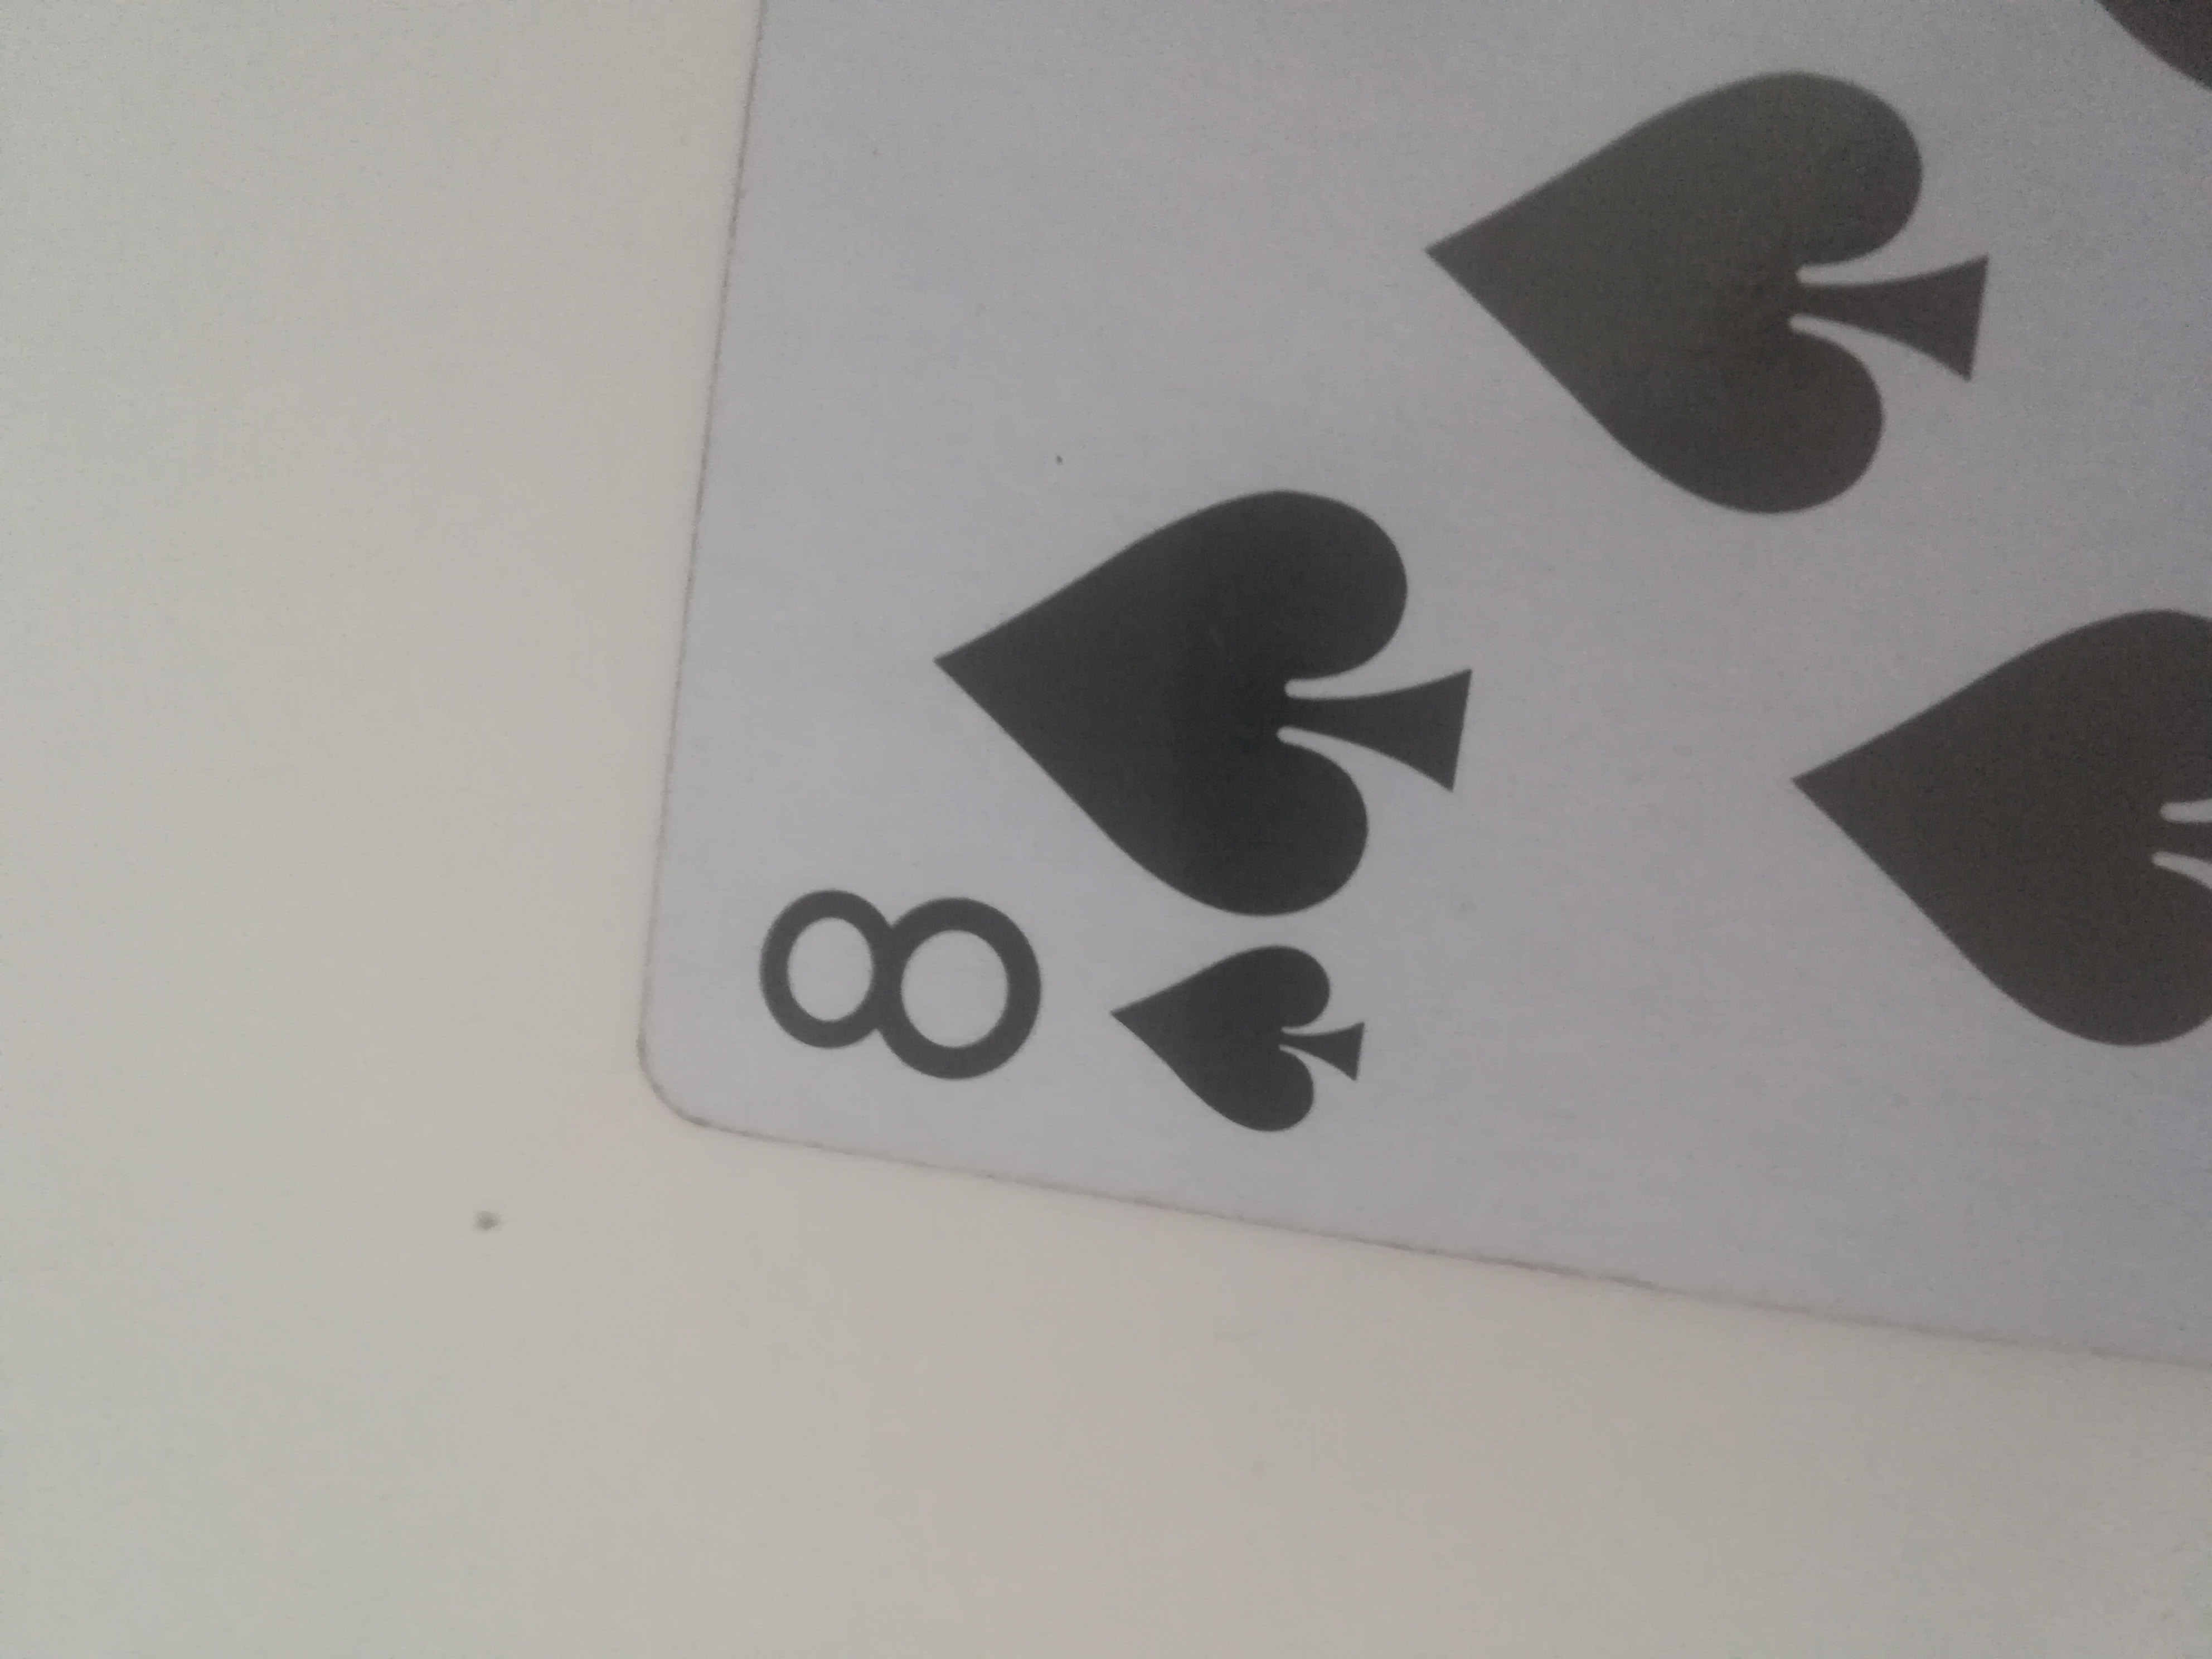8S: (625, 0, 2198, 1359)
